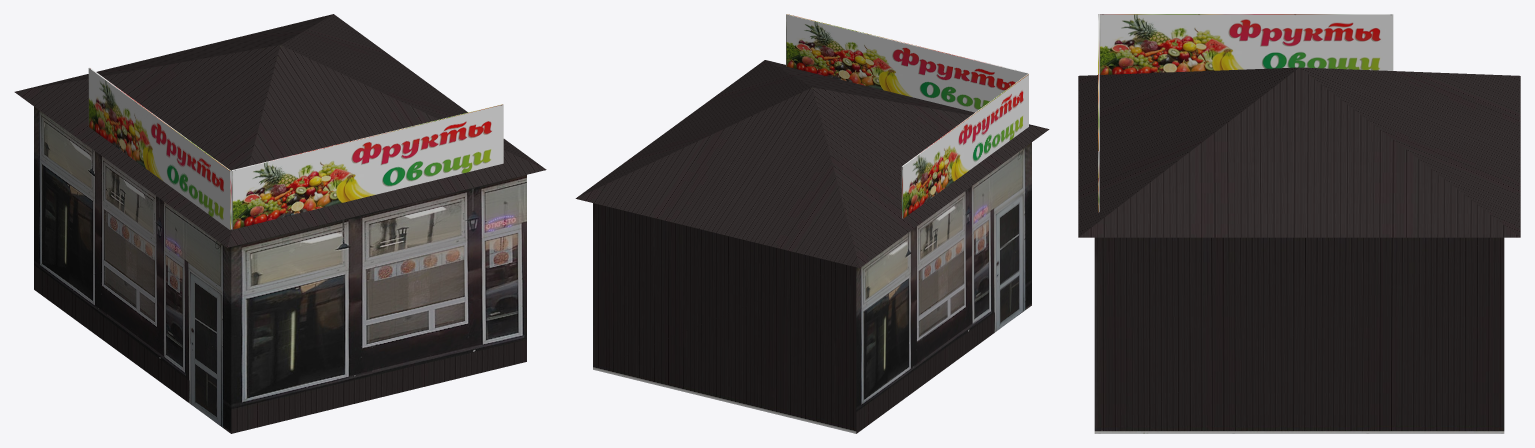
Rendered from omsk_larek_pizza.FBX.
The picture shows the model from 3 angles, left to right: view 1: azimuth 30°, elevation 25°; view 2: azimuth 150°, elevation 25°; view 3: azimuth 270°, elevation 25°; orthographic projection. The views are drawn at different scales.
Visible parts, largest first — view 1: omsk_larek_pizza; view 2: omsk_larek_pizza; view 3: omsk_larek_pizza.
Boxes of the visible parts, x1,y1,x2,y2 form: omsk_larek_pizza: (14, 14, 546, 433); omsk_larek_pizza: (575, 14, 1049, 433); omsk_larek_pizza: (1078, 14, 1520, 433).
Size of the model in its own units: 4.81 by 5.55 by 4.04.
